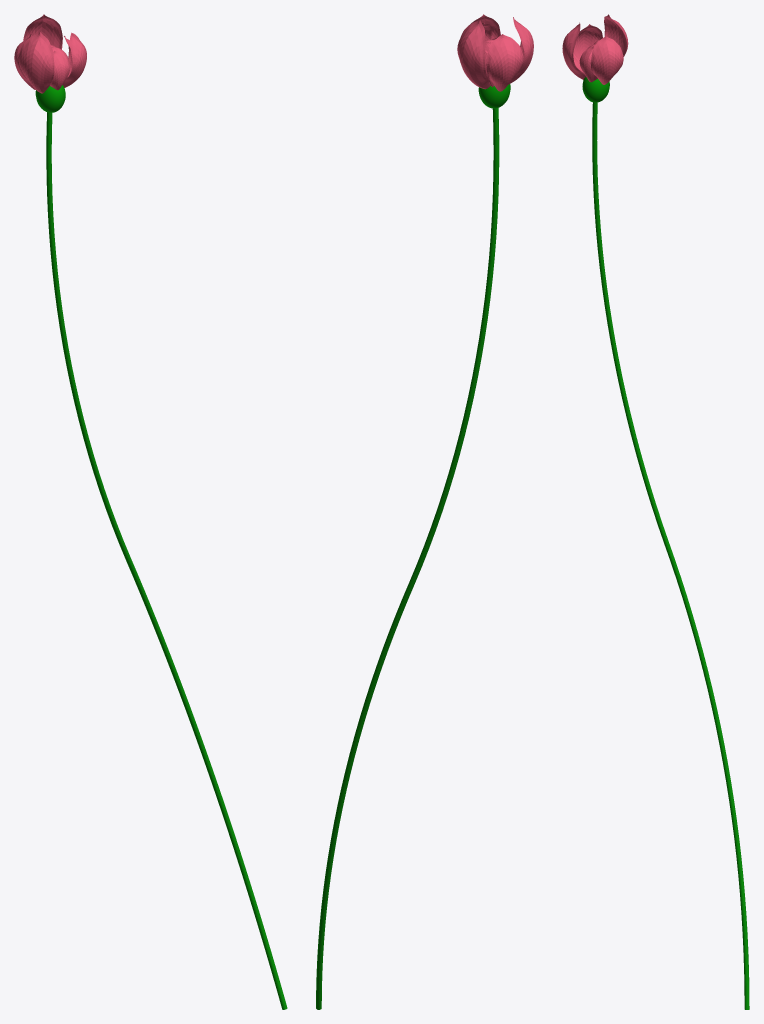
File: Lotus020.fbx
The picture shows the model from 3 angles, left to right: view 1: azimuth 30°, elevation 25°; view 2: azimuth 150°, elevation 25°; view 3: azimuth 330°, elevation 25°; orthographic projection. The views are drawn at different scales.
Visible parts, largest first — view 1: pCylinder5, nurbsToPoly11, nurbsToPoly10, nurbsToPoly24; view 2: pCylinder5, nurbsToPoly10, nurbsToPoly12, nurbsToPoly11, pSphere4; view 3: pCylinder5, nurbsToPoly24, nurbsToPoly11, nurbsToPoly12, nurbsToPoly10, pSphere4.
Part boxes in pixels (box(x1,y1,x2,y2)): pCylinder5: box(46, 112, 287, 1009); nurbsToPoly11: box(18, 32, 54, 93); nurbsToPoly10: box(23, 14, 62, 49); nurbsToPoly24: box(62, 32, 86, 87); pCylinder5: box(316, 108, 499, 1009); nurbsToPoly10: box(457, 19, 490, 89); nurbsToPoly12: box(486, 34, 523, 91); nurbsToPoly11: box(508, 17, 533, 84); pSphere4: box(478, 84, 510, 108); pCylinder5: box(592, 102, 749, 1009); nurbsToPoly24: box(590, 36, 623, 84); nurbsToPoly11: box(562, 22, 585, 79); nurbsToPoly12: box(573, 24, 602, 60); nurbsToPoly10: box(604, 14, 628, 56); pSphere4: box(582, 77, 609, 102).
Size of the model in its own units: 49.7 by 206 by 20.64.
